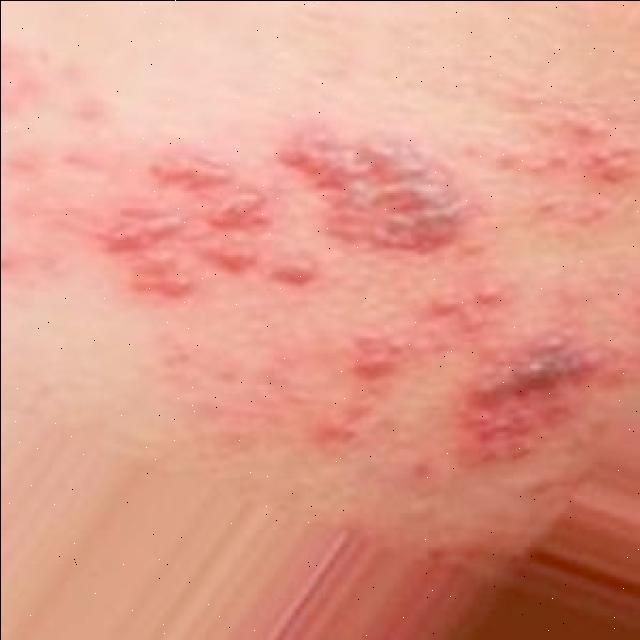Shingles: (100, 132, 467, 304), (452, 332, 630, 456), (496, 108, 640, 214)
